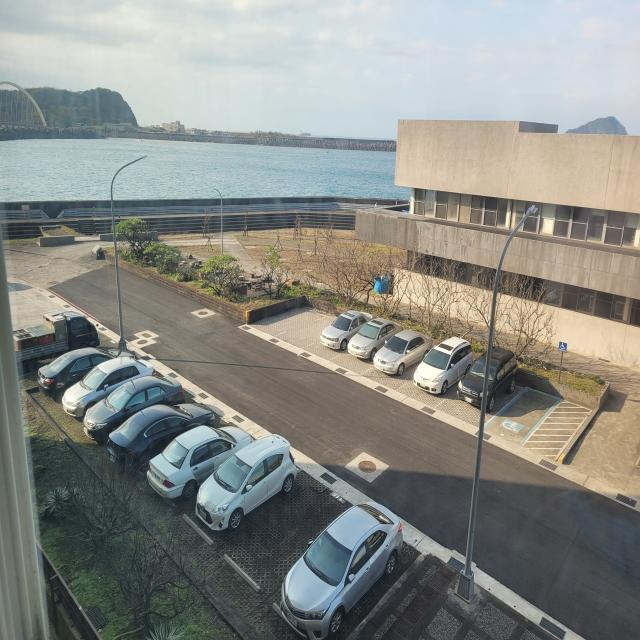car: (270, 498, 411, 640), (195, 431, 302, 533), (106, 398, 226, 472), (144, 428, 256, 500), (84, 374, 193, 445), (10, 310, 109, 378), (60, 358, 156, 426), (35, 344, 143, 400), (457, 347, 524, 416), (412, 334, 483, 398), (315, 305, 380, 354), (374, 327, 436, 378), (346, 317, 406, 362)
